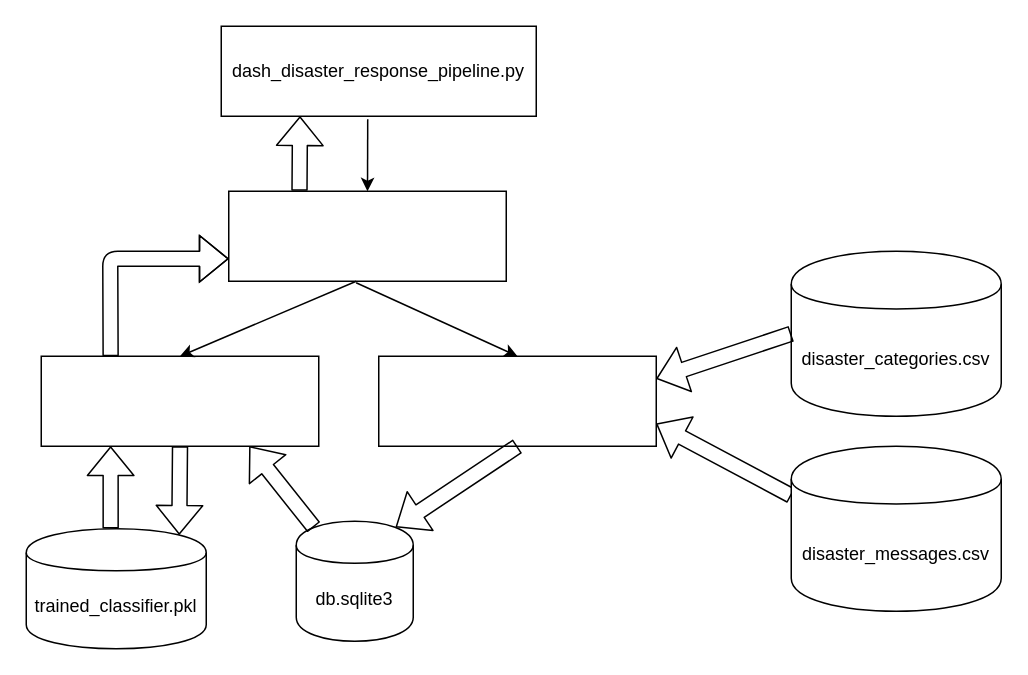
The diagram is 1028 pixels wide and 675 high, and some of its shapes have lost their labels. The shapes that lost their labels are listed below. From the top down, each one's box as (x1, y1, x2, y2) in pixels, then its label:
(227, 190, 506, 281): disaster_response_pipeline.py
(40, 355, 319, 446): train_classifier.py
(377, 355, 656, 446): process_data.py
